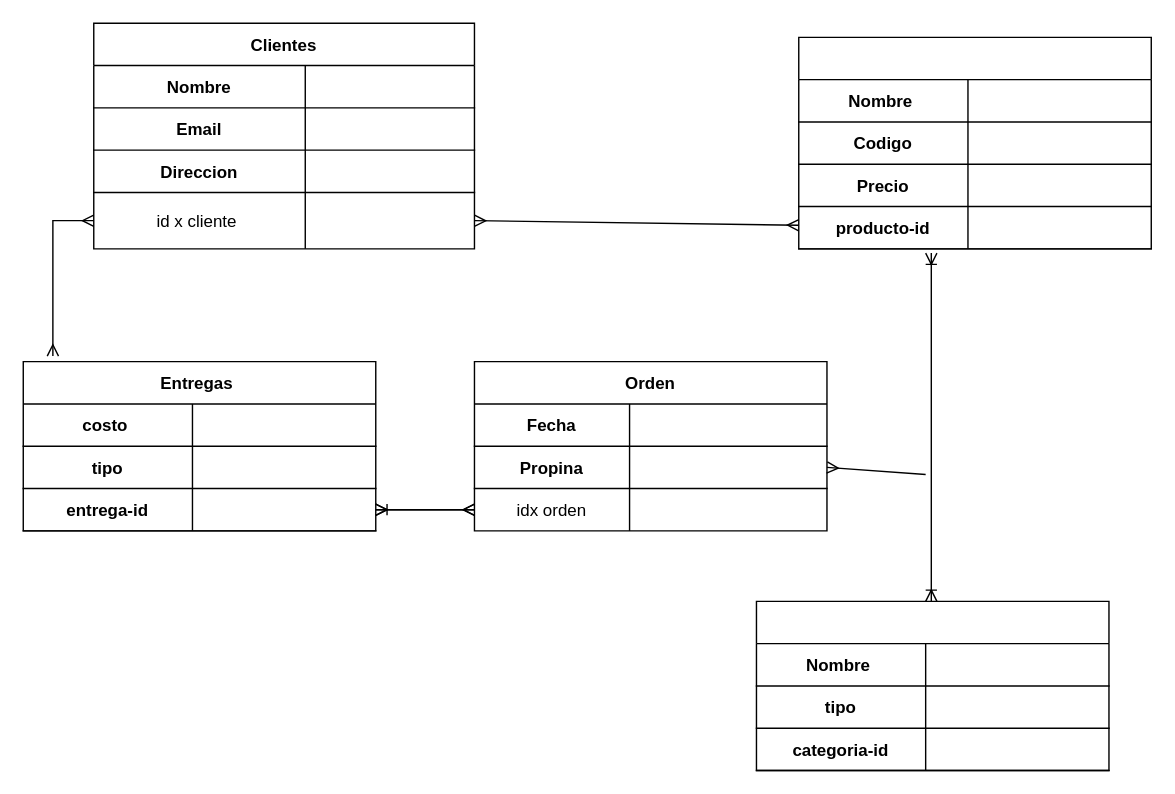
This 1175x794 diagram has some shape labels left out. Each missing label, with the box of its shape:
categorias: (755, 600, 1109, 771)
Productos: (797, 36, 1151, 249)
